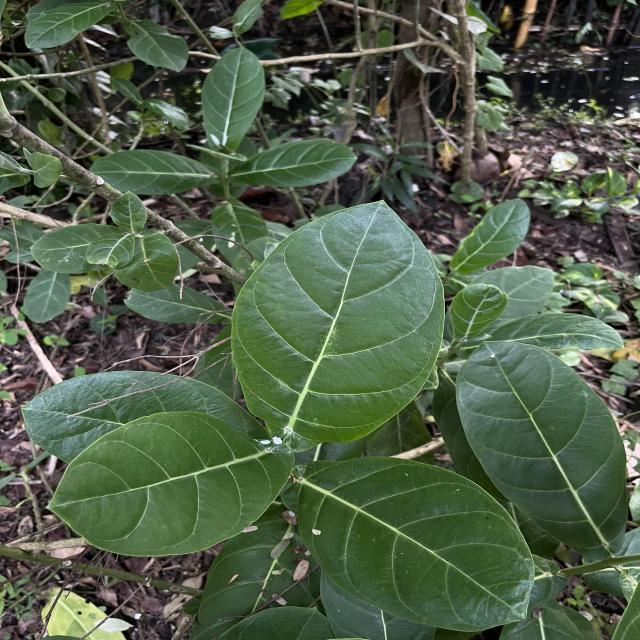Calotropis gigantea: (229, 198, 447, 446), (280, 454, 536, 633), (454, 339, 632, 562), (45, 410, 296, 558), (19, 370, 269, 464), (200, 44, 268, 154), (224, 138, 358, 189), (448, 197, 532, 277), (87, 148, 213, 194), (30, 223, 130, 275), (22, 2, 119, 50), (124, 18, 190, 73)
